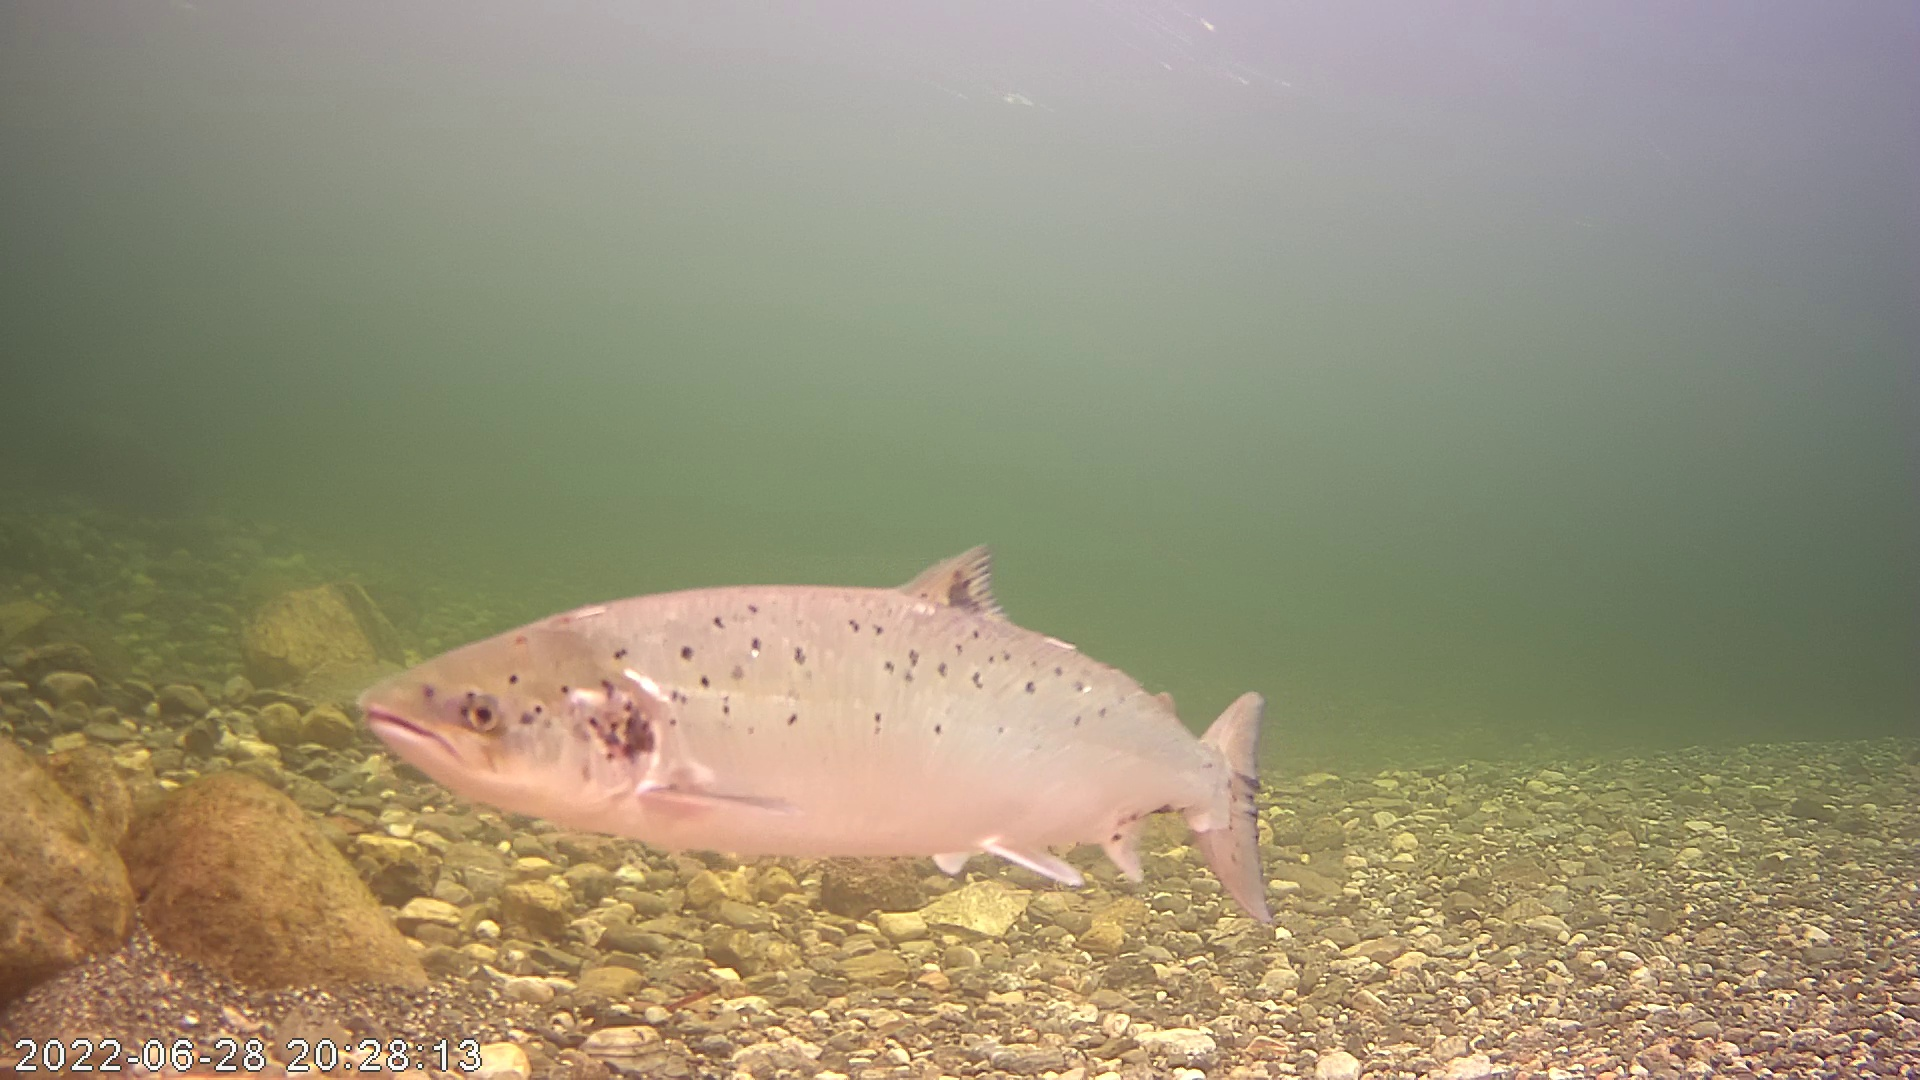salmon: (328, 465, 1288, 924)
